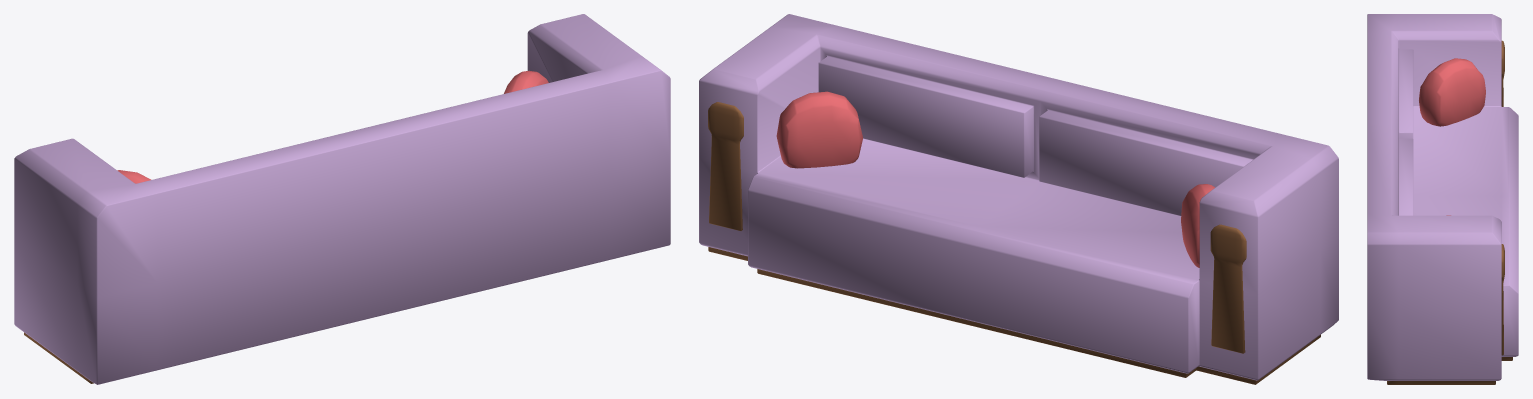
File: sofa.fbx
3 views of the same model, side by side, from view 1: azimuth 30°, elevation 25°; view 2: azimuth 150°, elevation 25°; view 3: azimuth 270°, elevation 25° (orthographic). The views are drawn at different scales.
Visible parts, largest first — view 1: Sofa1; view 2: Sofa1; view 3: Sofa1.
Part boxes in pixels (box(x1,y1,x2,y2)): Sofa1: box(14, 14, 670, 384); Sofa1: box(699, 14, 1338, 384); Sofa1: box(1367, 14, 1518, 384).
Size of the model in its own units: 446 by 139 by 126.
